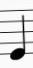E: (7, 5, 27, 61)
